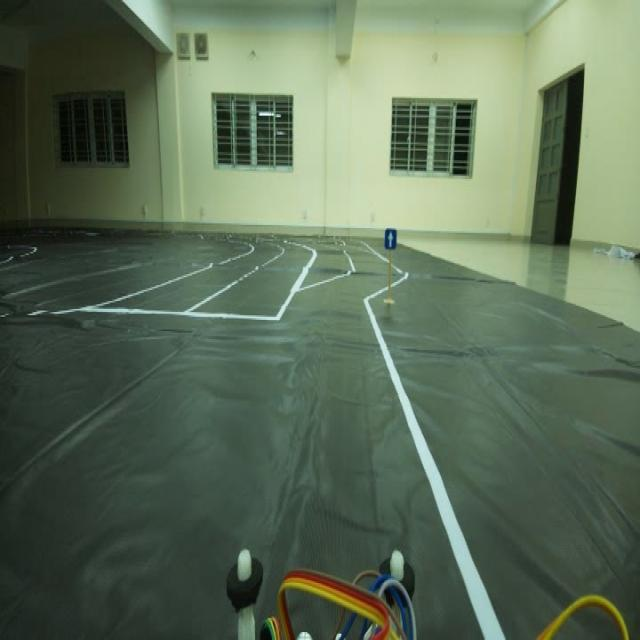onewayroad: (381, 220, 399, 255)
